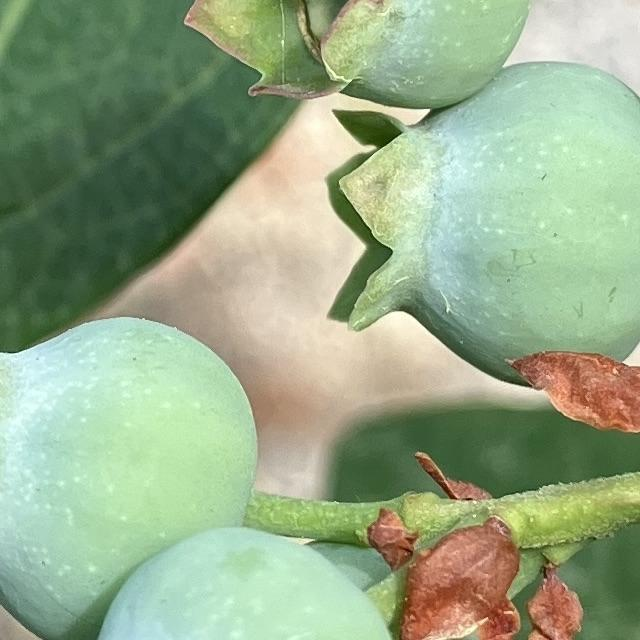Blueberries: (325, 57, 640, 383), (0, 295, 274, 640), (0, 518, 407, 640)
